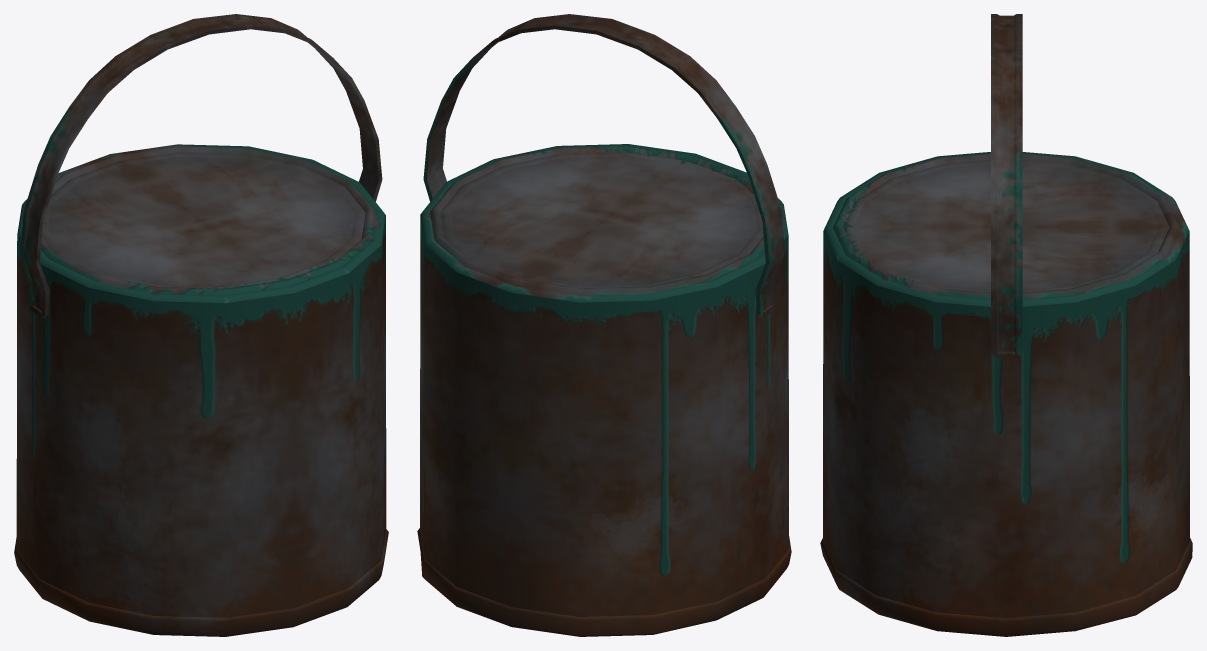
The model's file is Paintbucket.fbx.
3 renders of one model, left to right at view 1: azimuth 30°, elevation 25°; view 2: azimuth 150°, elevation 25°; view 3: azimuth 270°, elevation 25°, orthographic.
Visible parts, largest first — view 1: PaintBucket, PtaintBucketHandle; view 2: PaintBucket, PtaintBucketHandle; view 3: PaintBucket, PtaintBucketHandle.
Boxes of the visible parts, x1,y1,x2,y2 form: PaintBucket: (14, 144, 388, 636); PtaintBucketHandle: (20, 14, 382, 317); PaintBucket: (417, 144, 791, 636); PtaintBucketHandle: (423, 14, 784, 317); PaintBucket: (820, 152, 1192, 636); PtaintBucketHandle: (991, 14, 1022, 358).
Size of the model in its own units: 22.88 by 33.8 by 21.64.
